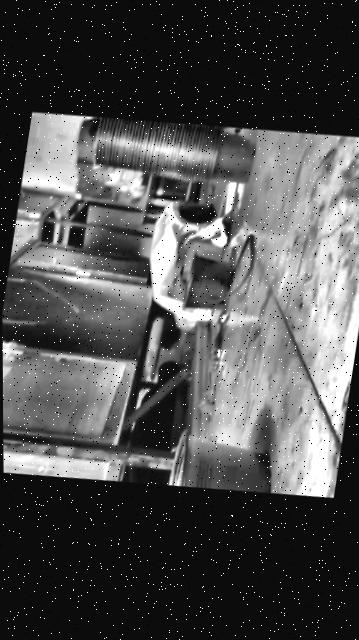pot: (167, 422, 277, 502), (179, 248, 233, 315)
